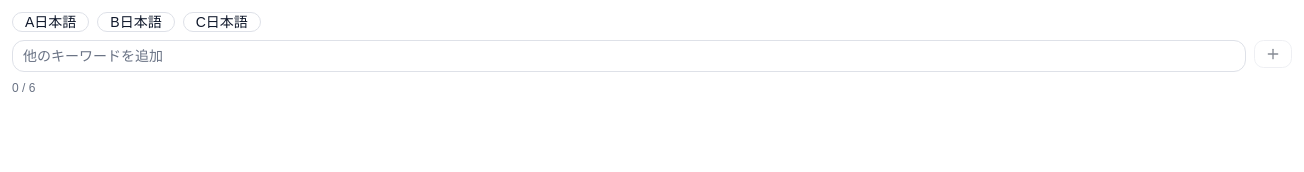
Test: FeedbackChipGroup › adds a custom chip via the Add button
The image size is (1304, 172).
Step 1. Type "custom-x" into the field with placeholder "他のキーワードを追加" → (629, 56), box [12,40,1246,72]
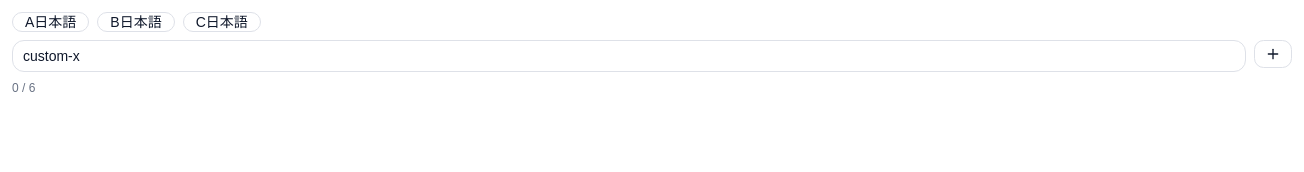
Step 2. Click the 4th button → (1273, 54), box [1254,40,1292,68]
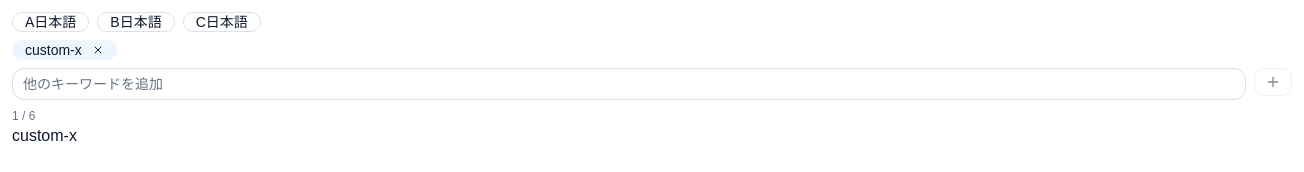
Check: the text with test id "value" reads "custom-x", box [12,127,77,144]
